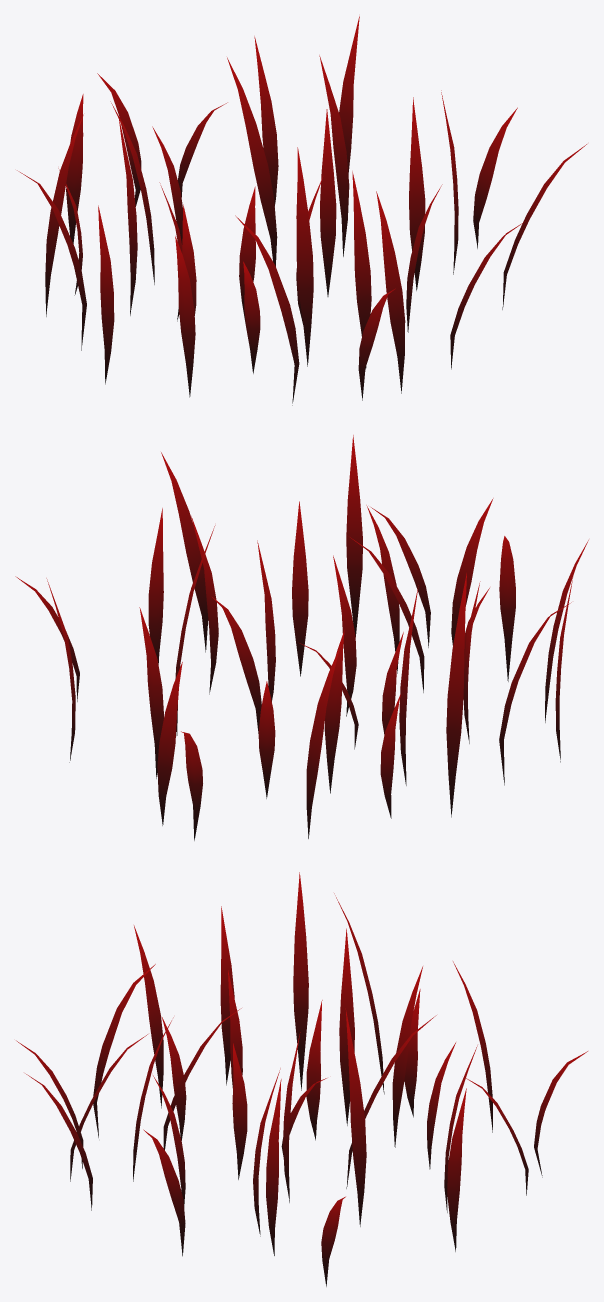
Rendered from grassurp.fbx.
3 views of the same model, one above another, from view 1: azimuth 30°, elevation 25°; view 2: azimuth 150°, elevation 25°; view 3: azimuth 270°, elevation 25° (orthographic). The views are drawn at different scales.
Parts seen in each view (by area): view 1: grass; view 2: grass; view 3: grass.
Part boxes in pixels (left/top/right/bottom): grass: left=17, top=16, right=586, bottom=405; grass: left=15, top=435, right=588, bottom=840; grass: left=16, top=872, right=587, bottom=1286.
Bounding box in the file's own units: 3.57 × 1.48 × 3.56.
